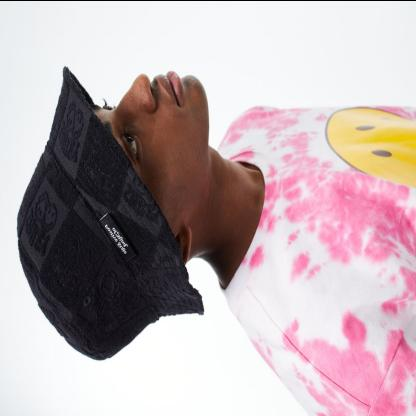hat: (13, 44, 209, 366)
